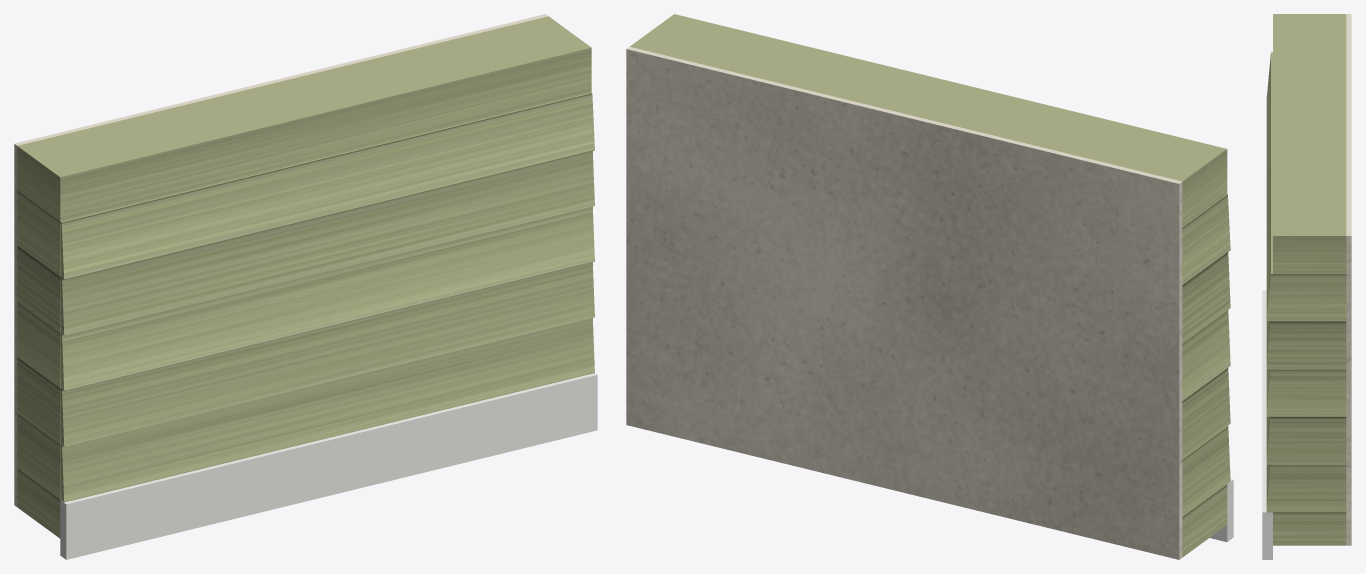
The model's file is knee_wall.glb.
3 renders of one model, left to right at view 1: azimuth 30°, elevation 25°; view 2: azimuth 150°, elevation 25°; view 3: azimuth 270°, elevation 25°, orthographic. The views are drawn at different scales.
Visible parts, largest first — view 1: knee_wall_siding, knee_wall_trim, knee_wall_plaster; view 2: knee_wall_plaster, knee_wall_siding; view 3: knee_wall_siding, knee_wall_plaster, knee_wall_trim.
Boxes of the visible parts, <box> form: knee_wall_siding: <box>17,16,594,538</box>; knee_wall_trim: <box>60,373,597,559</box>; knee_wall_plaster: <box>14,14,548,506</box>; knee_wall_plaster: <box>626,46,1182,559</box>; knee_wall_siding: <box>630,14,1230,557</box>; knee_wall_siding: <box>1266,14,1346,545</box>; knee_wall_plaster: <box>1346,14,1351,545</box>; knee_wall_trim: <box>1262,290,1272,559</box>.
Bounding box in the file's own units: 2 × 1.36 × 0.34.
Materials: 3 (2 with a texture image).
